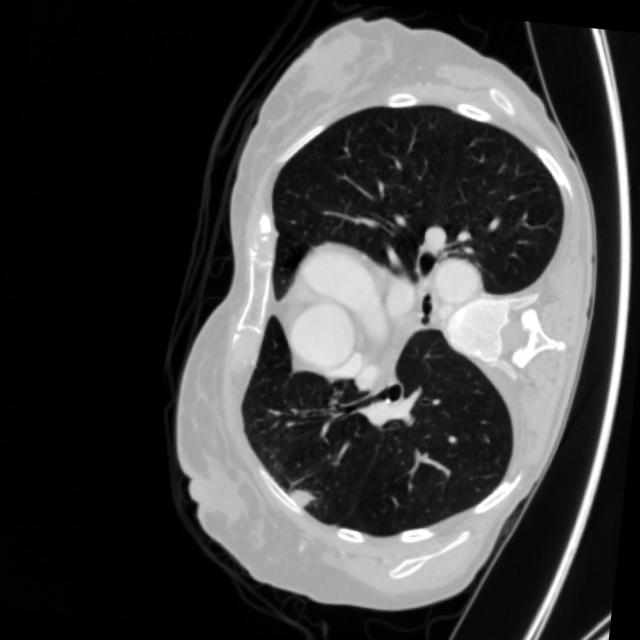nodule: (272, 472, 326, 524)
